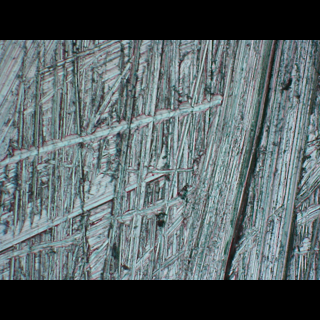d: (3, 41, 320, 279)
